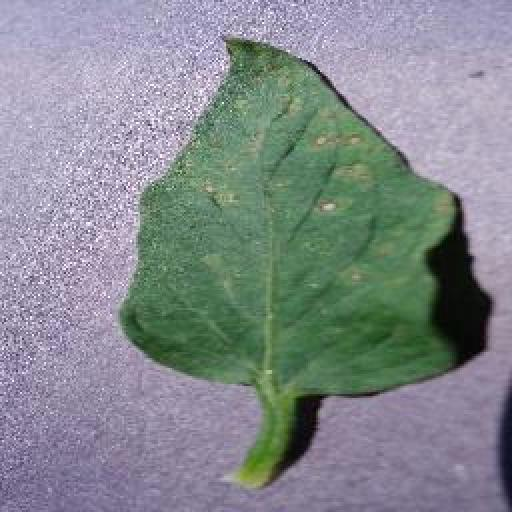disease_tomato: (116, 27, 460, 397)
